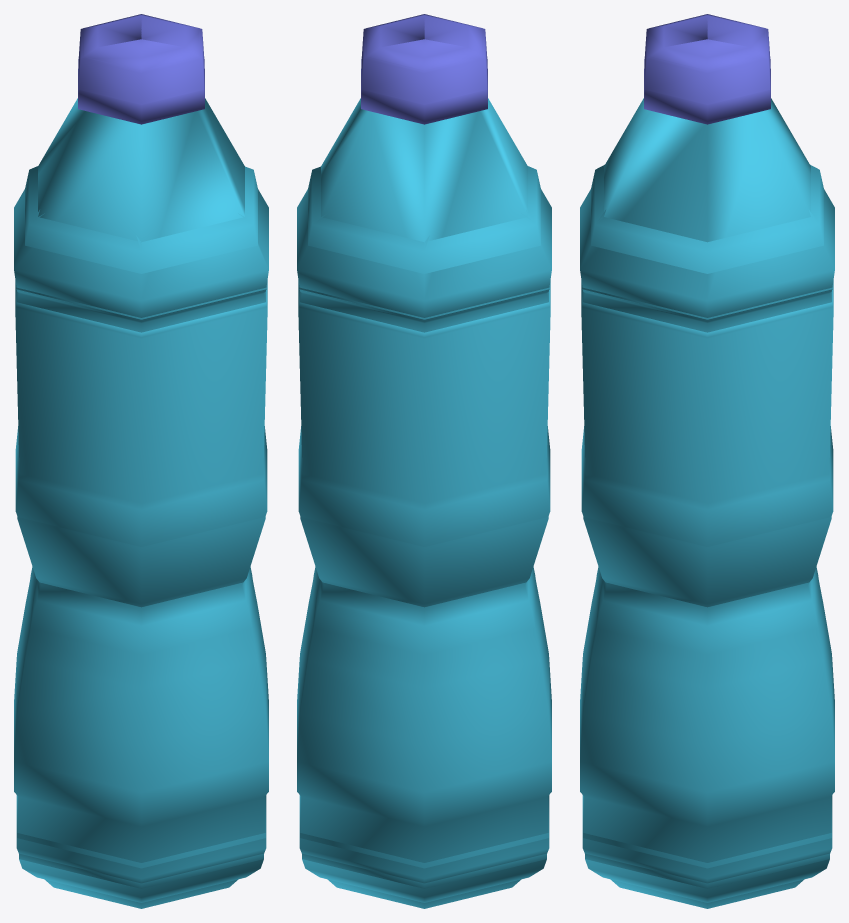
3 views of the same model, side by side, from view 1: azimuth 30°, elevation 25°; view 2: azimuth 150°, elevation 25°; view 3: azimuth 270°, elevation 25° (orthographic).
Visible parts, largest first — view 1: Lathe_1; view 2: Lathe_1; view 3: Lathe_1.
Boxes of the visible parts, box(x1,y1,x2,y2) form: Lathe_1: box(14, 14, 268, 908); Lathe_1: box(297, 14, 551, 908); Lathe_1: box(580, 14, 834, 908).
Size of the model in its own units: 0.0941 by 0.0815 by 0.2959.
